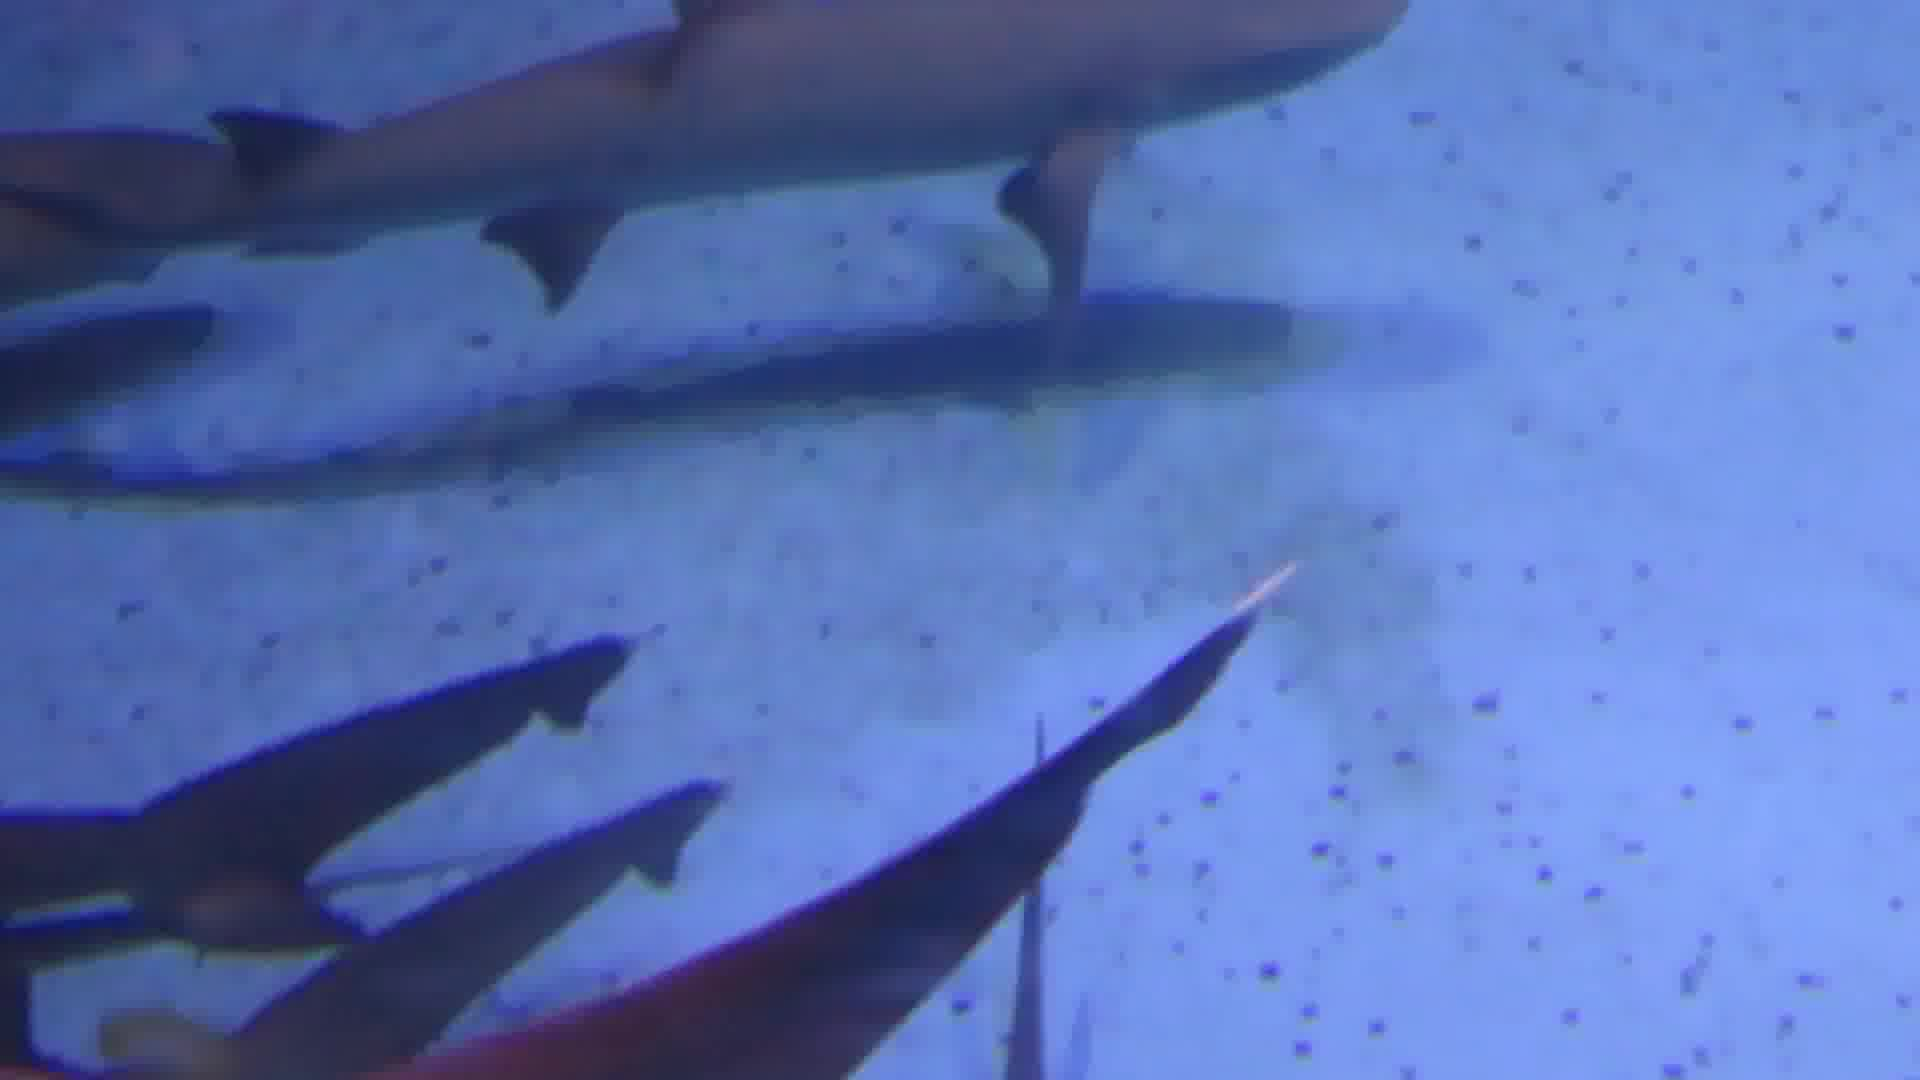Triaenodon obesus: (1, 7, 1465, 316)
